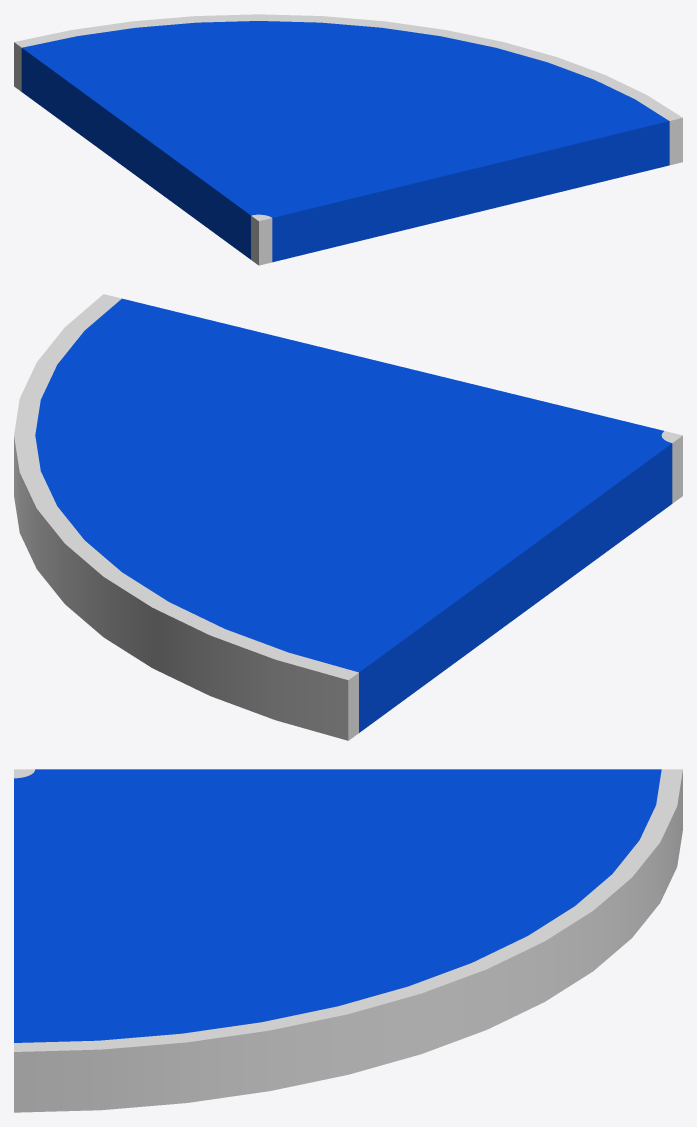
The model's file is turn.fbx.
The picture shows the model from 3 angles, top to bottom: view 1: azimuth 30°, elevation 25°; view 2: azimuth 150°, elevation 25°; view 3: azimuth 270°, elevation 25°; orthographic projection. The views are drawn at different scales.
Parts seen in each view (by area): view 1: Turn; view 2: Turn; view 3: Turn.
Boxes of the visible parts, x1,y1,x2,y2 form: Turn: (14, 14, 682, 265); Turn: (14, 294, 682, 740); Turn: (14, 769, 682, 1112).
Size of the model in its own units: 500 by 50 by 500.
